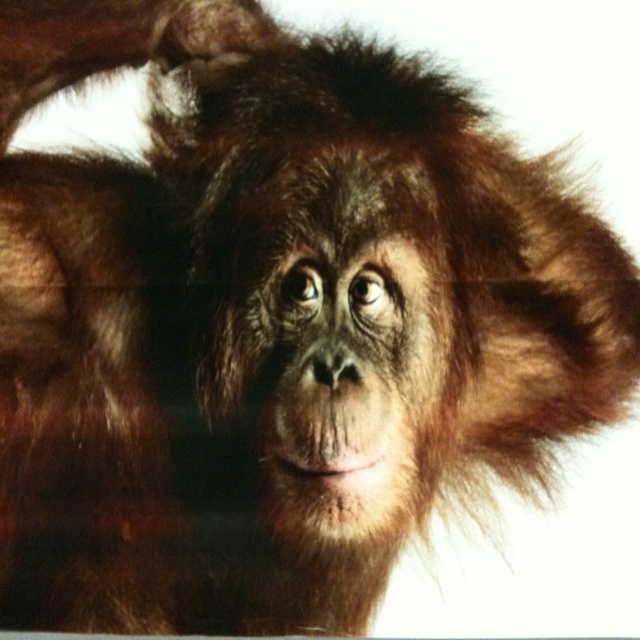Monkey: (2, 19, 640, 634)
